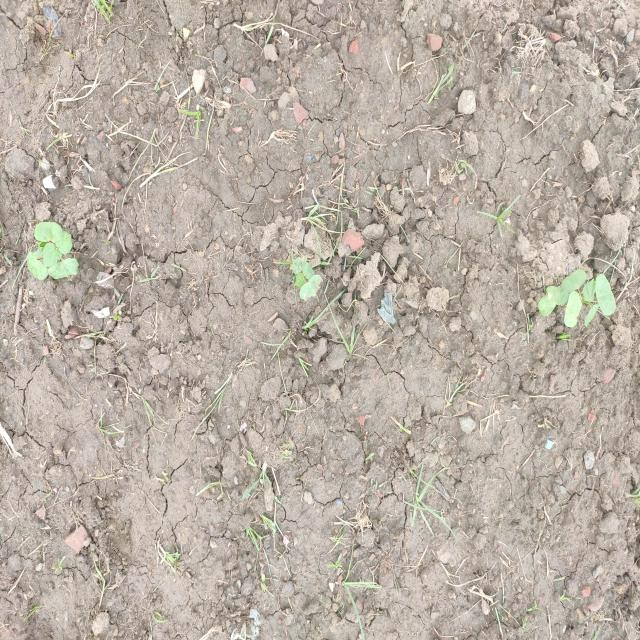seedling_s4: (595, 274, 616, 316), (48, 258, 79, 279), (538, 286, 559, 316), (561, 269, 587, 293), (564, 291, 581, 327), (34, 222, 63, 243), (27, 252, 48, 281), (300, 275, 323, 300), (43, 243, 62, 267), (55, 231, 72, 254), (584, 304, 599, 327), (582, 279, 597, 301), (290, 255, 306, 274), (557, 286, 569, 306), (294, 272, 306, 289), (302, 262, 314, 279)
